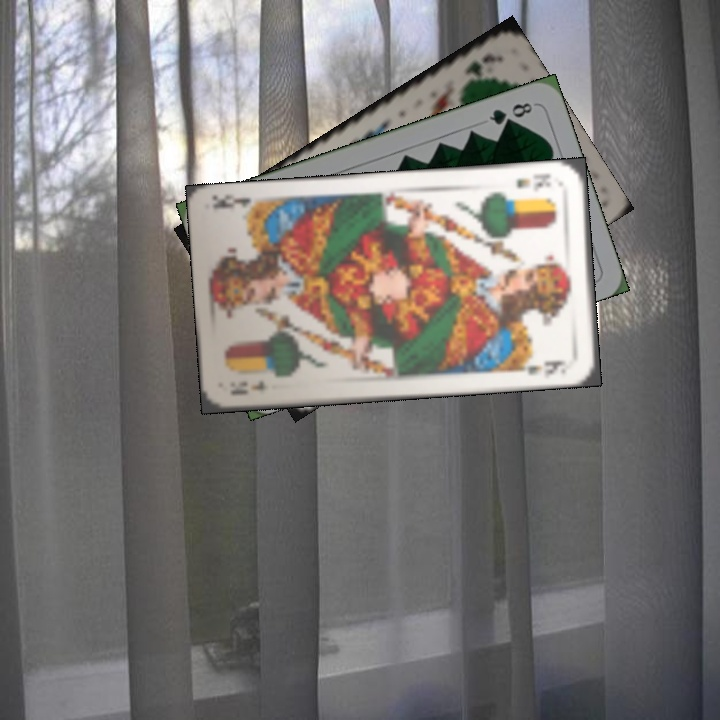EK: (512, 168, 554, 194), (226, 376, 268, 399)
G8: (485, 98, 535, 128)
GK: (460, 53, 498, 78)
